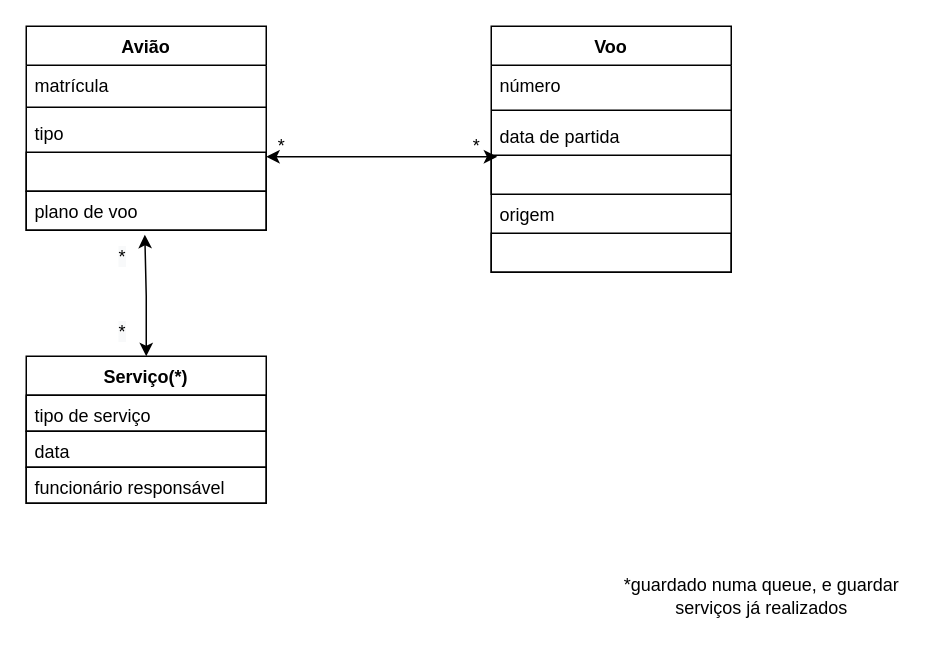
This 938x645 diagram has some shape labels left out. Each missing label, with the centre of its shape:
capacidade: pixel 145 171
destino: pixel 610 252
duração: pixel 610 174
